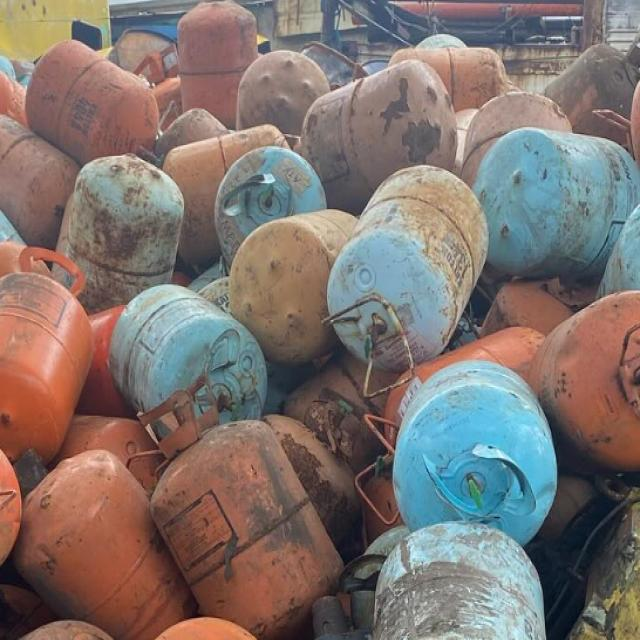cylinder: (137, 371, 346, 639), (319, 164, 488, 399), (392, 361, 556, 548), (109, 285, 268, 424), (1, 247, 94, 466), (25, 39, 159, 162)
